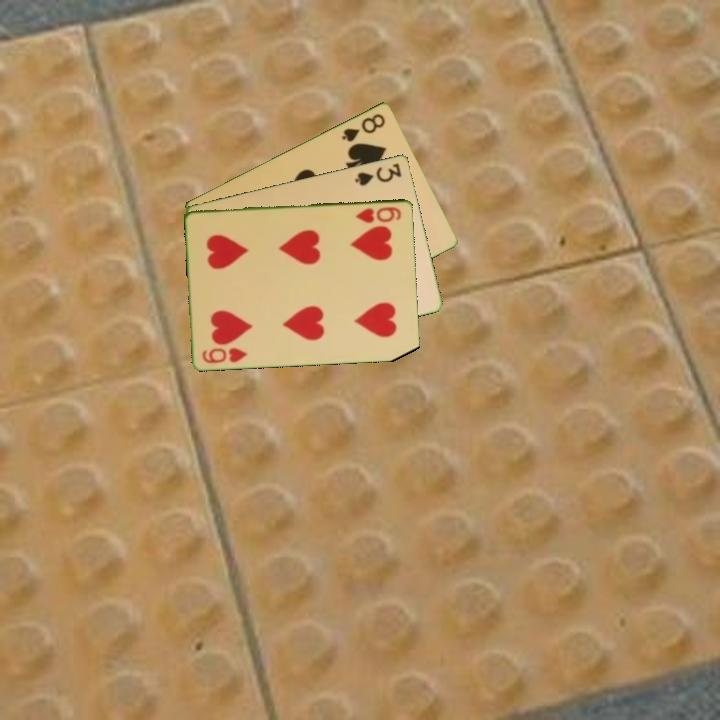3s: (352, 159, 404, 188)
6h: (352, 203, 404, 226), (199, 344, 250, 366)
8s: (338, 110, 388, 144)
